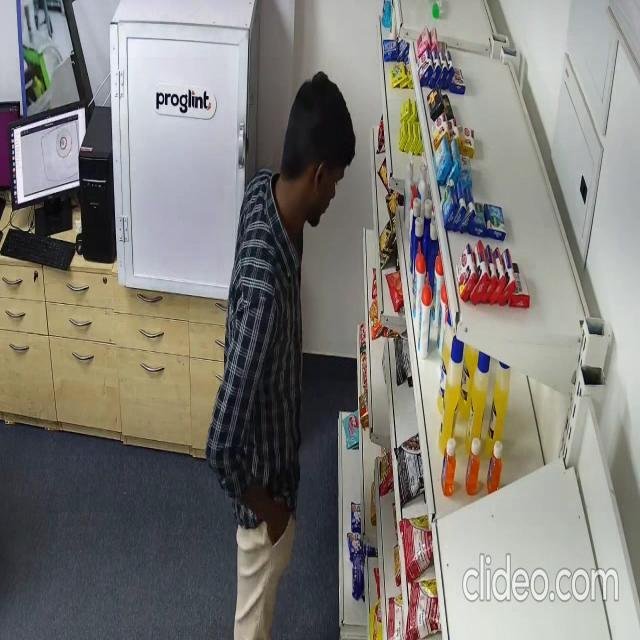Shoplifting: (209, 70, 358, 640)
